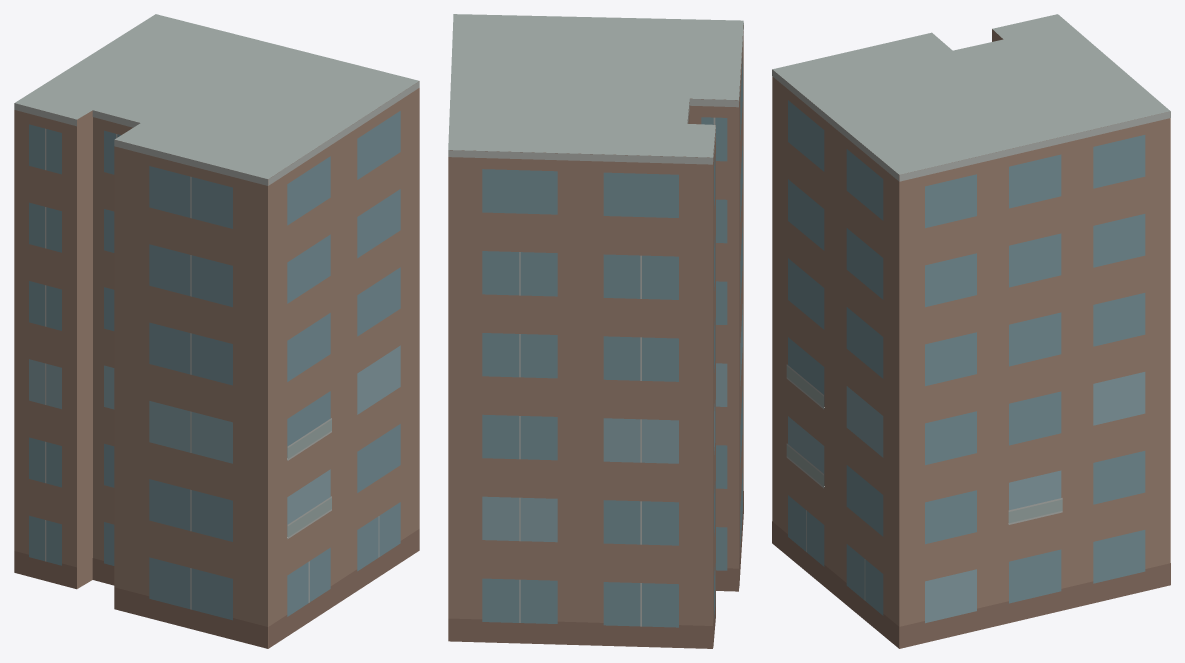
File: survey-upis-32840604.glb
The picture shows the model from 3 angles, left to right: view 1: azimuth 30°, elevation 25°; view 2: azimuth 150°, elevation 25°; view 3: azimuth 270°, elevation 25°; orthographic projection. The views are drawn at different scales.
Parts seen in each view (by area): view 1: survey-upis-32840604.tmp; view 2: survey-upis-32840604.tmp; view 3: survey-upis-32840604.tmp.
Part boxes in pixels (x1=…): survey-upis-32840604.tmp: x1=14, y1=14, x2=419, y2=648; survey-upis-32840604.tmp: x1=448, y1=14, x2=743, y2=648; survey-upis-32840604.tmp: x1=772, y1=14, x2=1170, y2=648.
Size of the model in its own units: 12.35 by 16.95 by 12.93.
